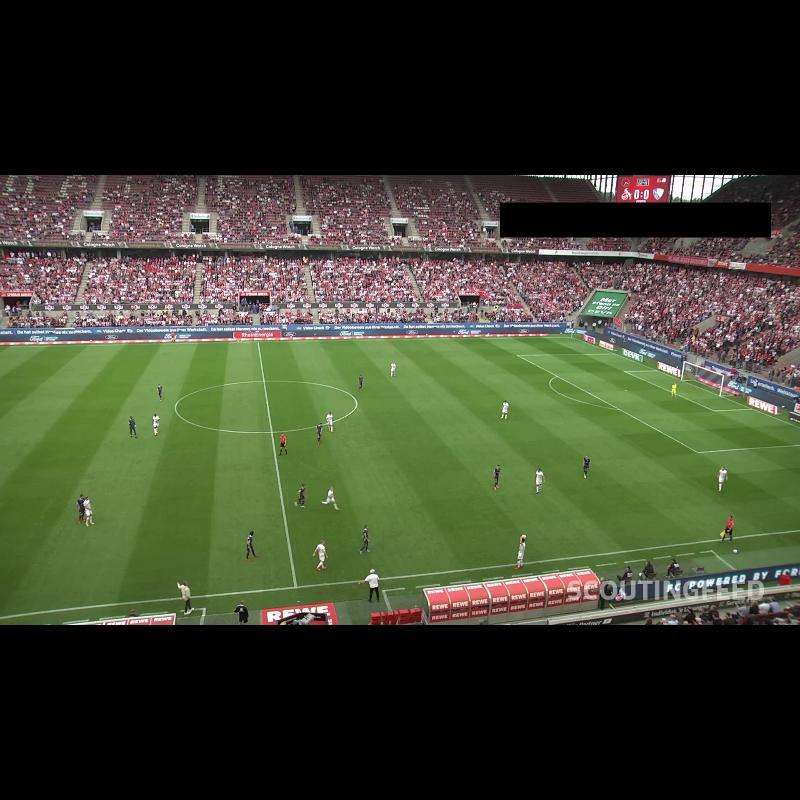cross_recipient_zone: (517, 354, 800, 452)
crossing_player_zone: (590, 445, 800, 542), (423, 337, 613, 357), (0, 346, 87, 369)
pitch: (0, 337, 800, 618)
